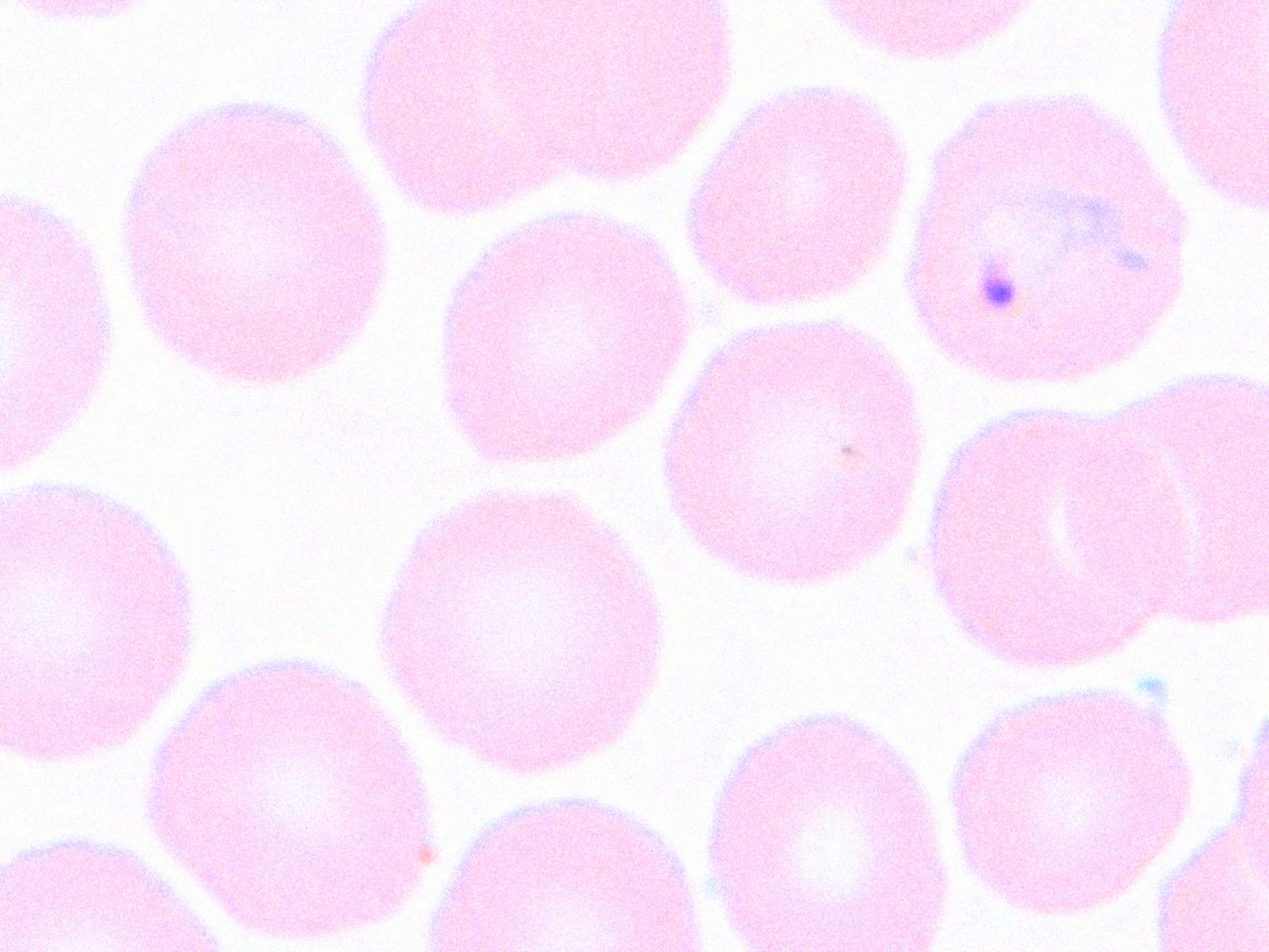Infected: (899, 98, 1194, 379)
Uninfected: (150, 657, 422, 931), (392, 497, 664, 767), (121, 100, 383, 379), (665, 320, 922, 586), (923, 411, 1188, 659), (445, 212, 690, 464), (712, 710, 943, 952), (950, 684, 1187, 912), (0, 483, 187, 761), (366, 0, 602, 208), (1069, 375, 1269, 615), (687, 84, 905, 301), (485, 0, 727, 180)
